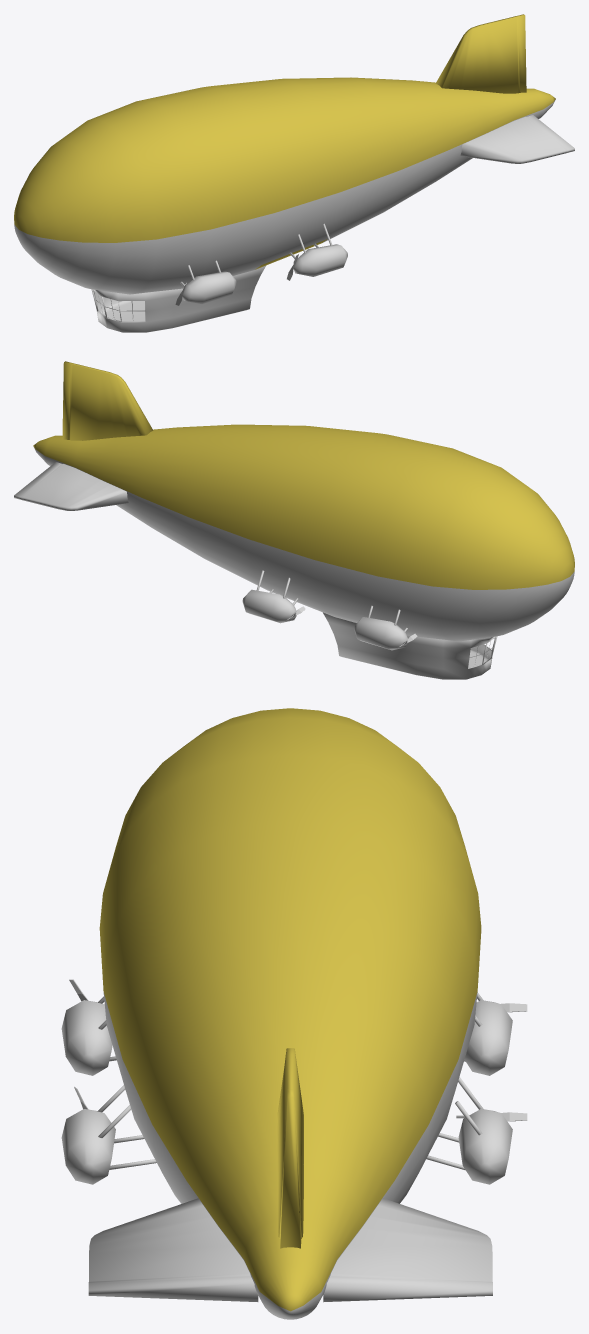
File: zeppelin.fbx
3 views of the same model, one above another, from view 1: azimuth 30°, elevation 25°; view 2: azimuth 150°, elevation 25°; view 3: azimuth 270°, elevation 25° (orthographic). The views are drawn at different scales.
Parts seen in each view (by area): view 1: Zeppelin; view 2: Zeppelin; view 3: Zeppelin.
Boxes of the visible parts, x1=… form: Zeppelin: x1=14, y1=14, x2=574, y2=332; Zeppelin: x1=14, y1=361, x2=574, y2=679; Zeppelin: x1=61, y1=708, x2=512, y2=1319.
Bounding box in the file's own units: 1105 × 411 × 415.
